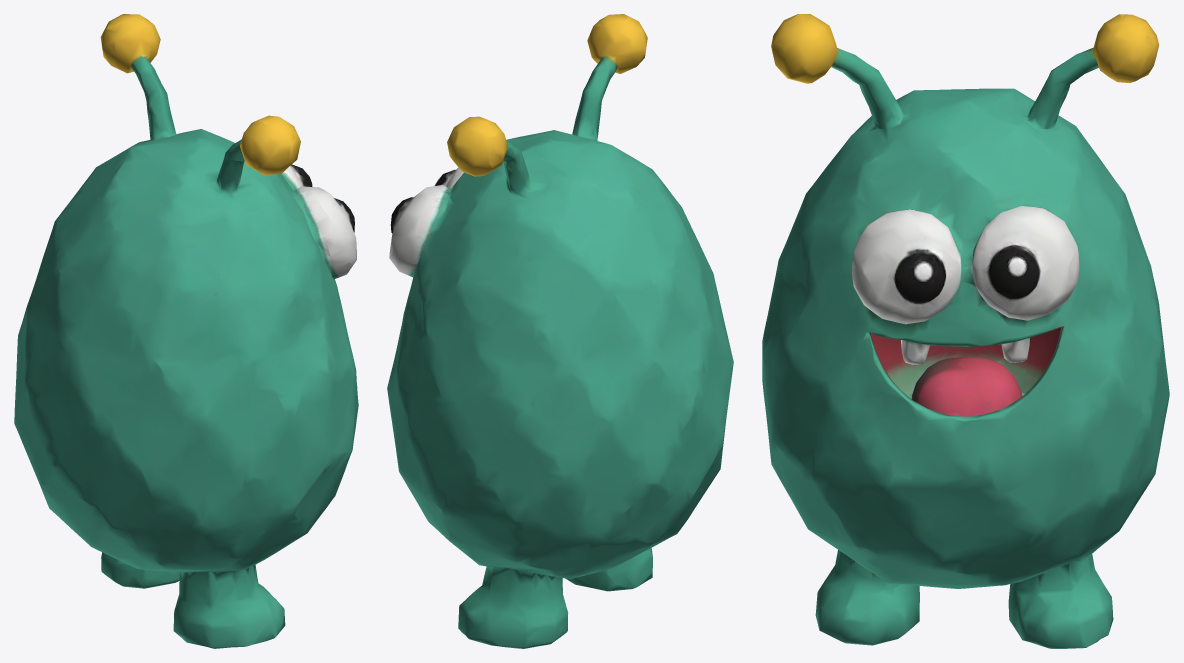
Rendered from monster3.glb.
The picture shows the model from 3 angles, left to right: view 1: azimuth 30°, elevation 25°; view 2: azimuth 150°, elevation 25°; view 3: azimuth 270°, elevation 25°; orthographic projection. The views are drawn at different scales.
Parts seen in each view (by area): view 1: tripo_node_df46b5d3-1c73-4ad6-b53e-94271839d9d0; view 2: tripo_node_df46b5d3-1c73-4ad6-b53e-94271839d9d0; view 3: tripo_node_df46b5d3-1c73-4ad6-b53e-94271839d9d0.
Part boxes in pixels (x1,y1,x2,y2): tripo_node_df46b5d3-1c73-4ad6-b53e-94271839d9d0: [14, 14, 358, 648]; tripo_node_df46b5d3-1c73-4ad6-b53e-94271839d9d0: [387, 14, 733, 648]; tripo_node_df46b5d3-1c73-4ad6-b53e-94271839d9d0: [762, 14, 1169, 648].
Size of the model in its own units: 0.5784 by 1 by 0.6013.
1 material, 1 textured.
